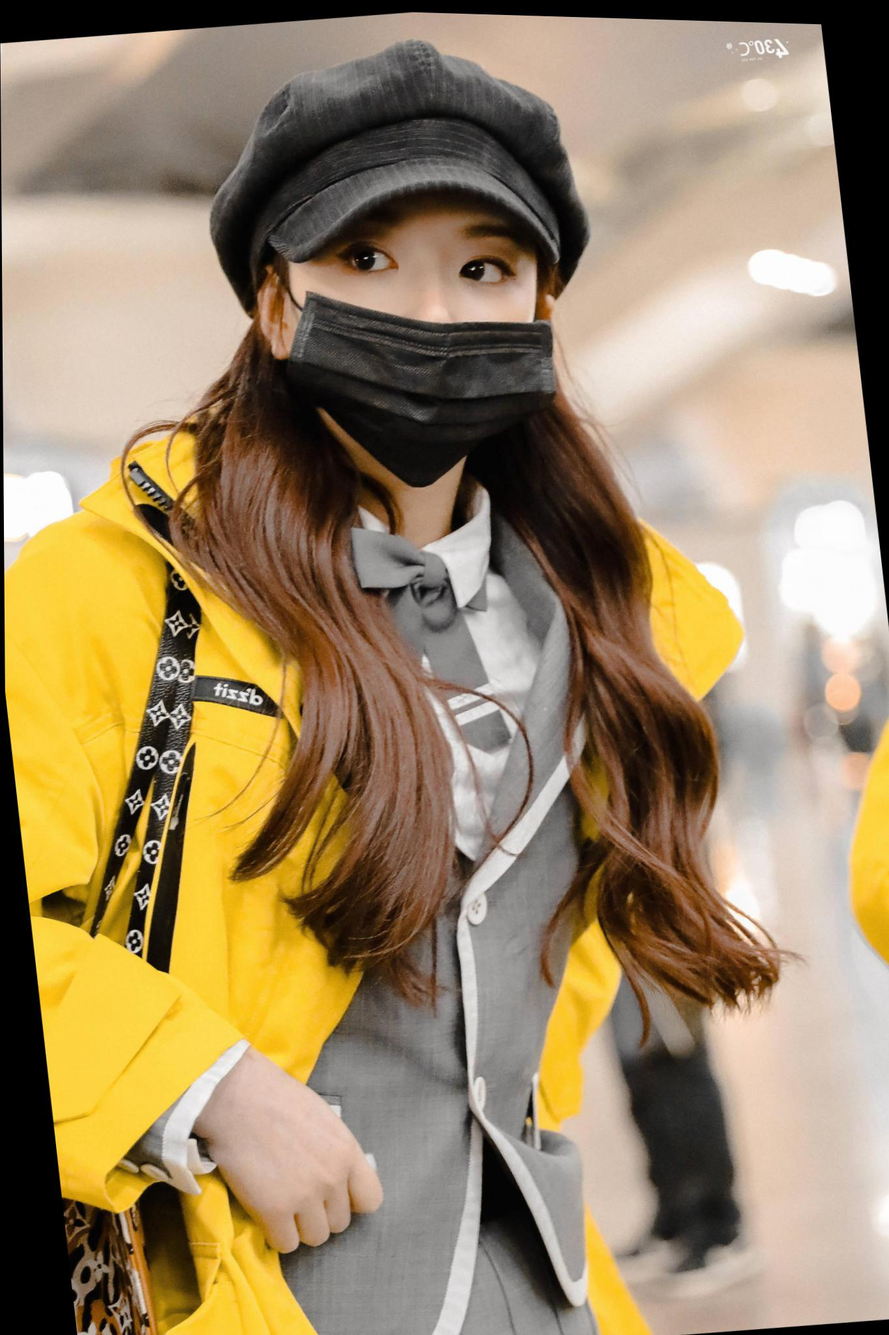WRONG: (279, 201, 566, 500)
